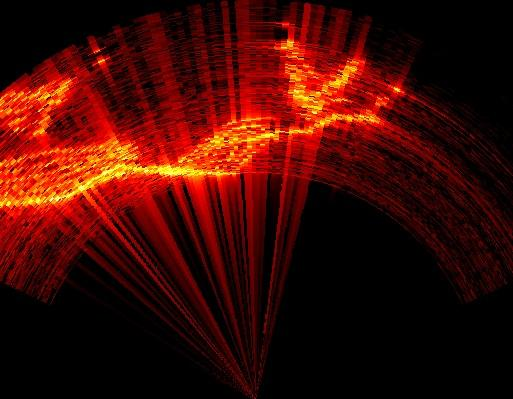shipwreck: (0, 39, 382, 207)
